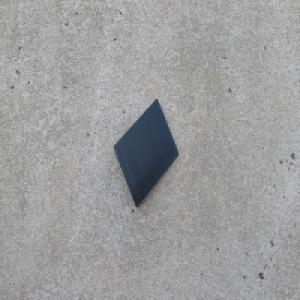PlasticPart: (113, 97, 179, 208)
